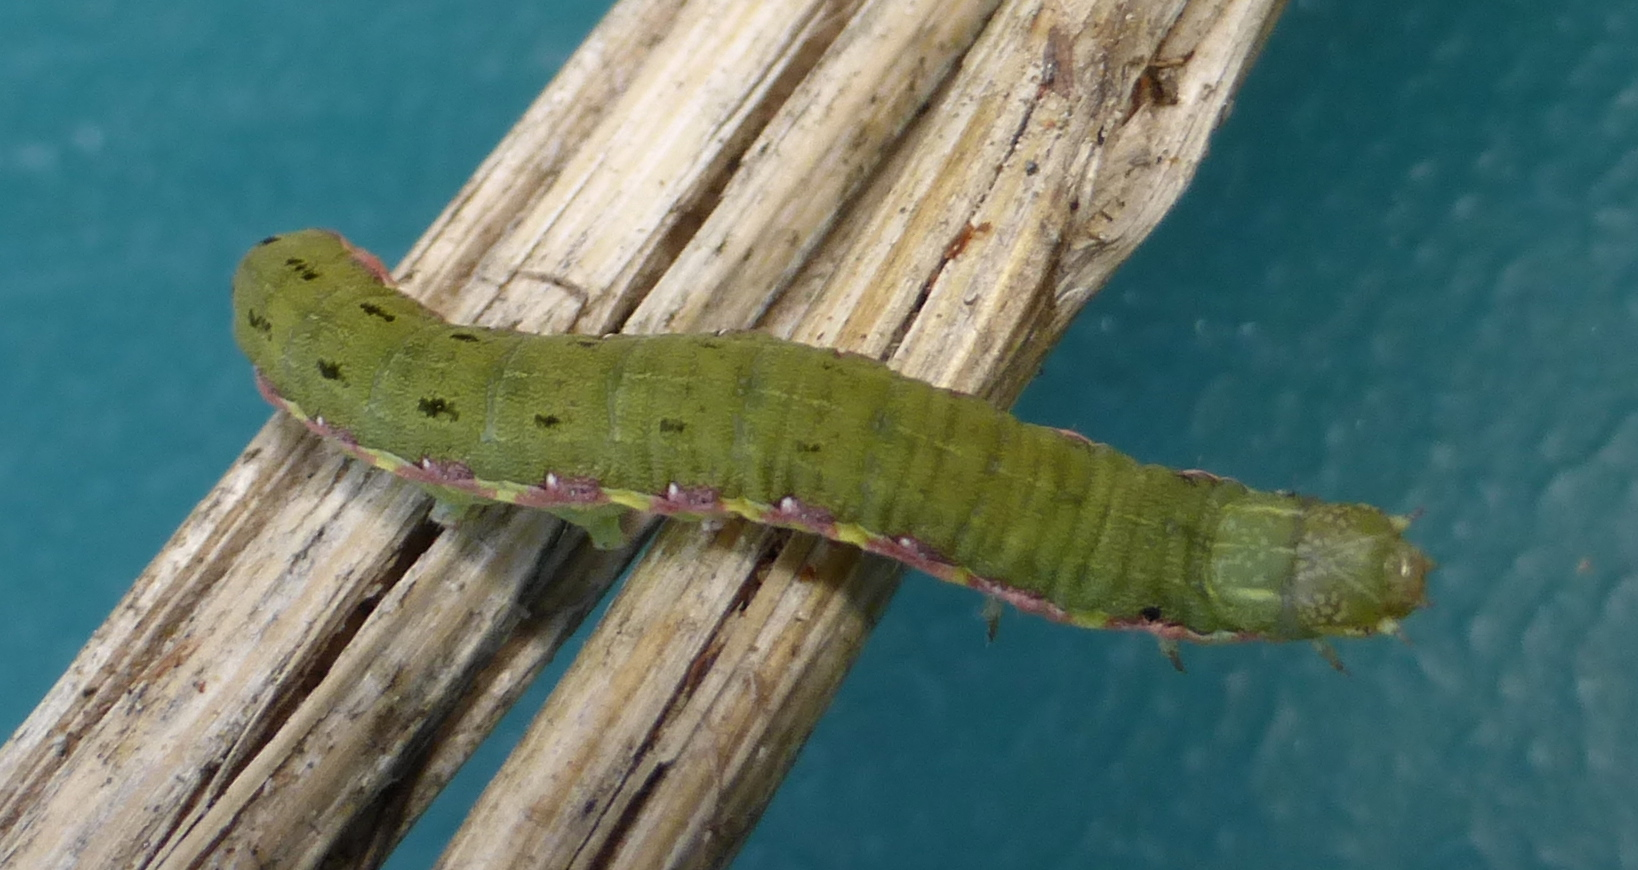Armyworm: (211, 207, 1484, 690)
